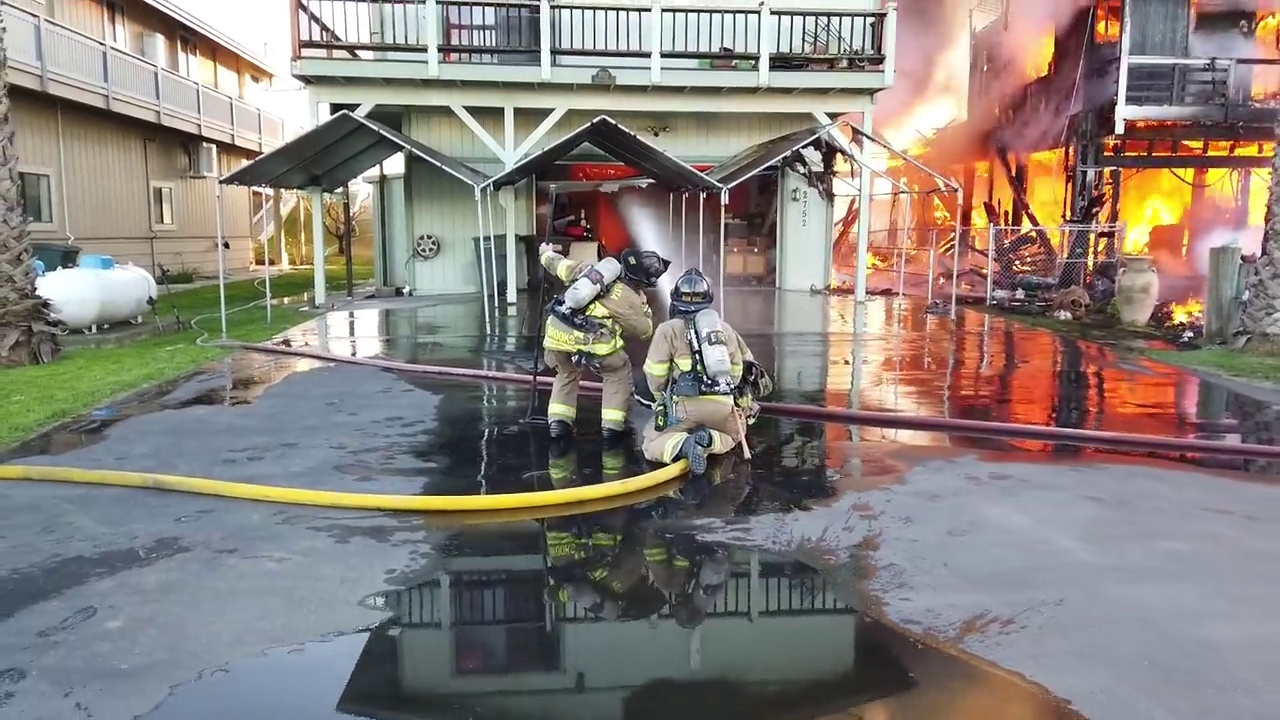fire: (1120, 140, 1273, 261), (904, 142, 1073, 228), (829, 142, 902, 206), (1152, 279, 1212, 339), (1252, 1, 1280, 98), (1011, 23, 1060, 78), (1084, 1, 1126, 47), (853, 240, 897, 273), (935, 227, 988, 253), (1000, 247, 1040, 278), (958, 277, 973, 297), (930, 271, 947, 285)
smoke: (866, 1, 982, 139), (988, 60, 1115, 142)
